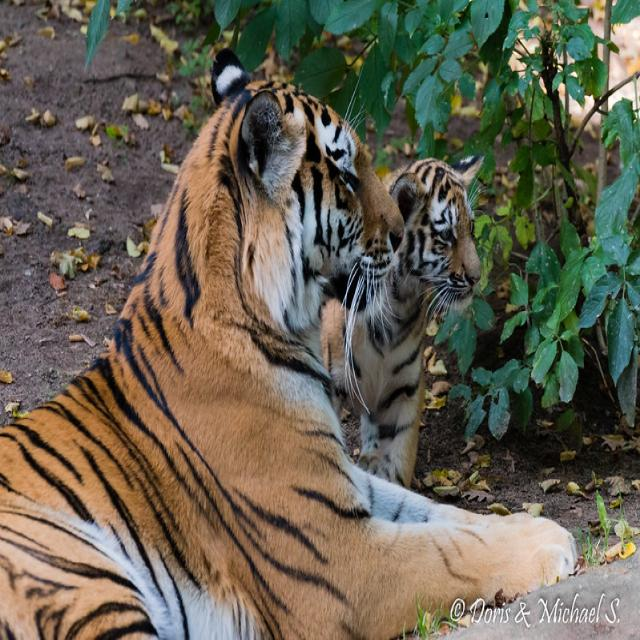Tiger: (0, 46, 578, 638), (330, 155, 479, 484)
